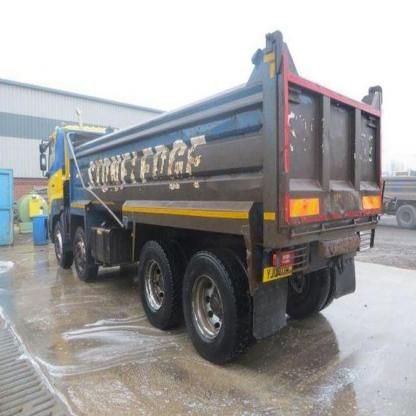dump_truck: (38, 25, 387, 379)
